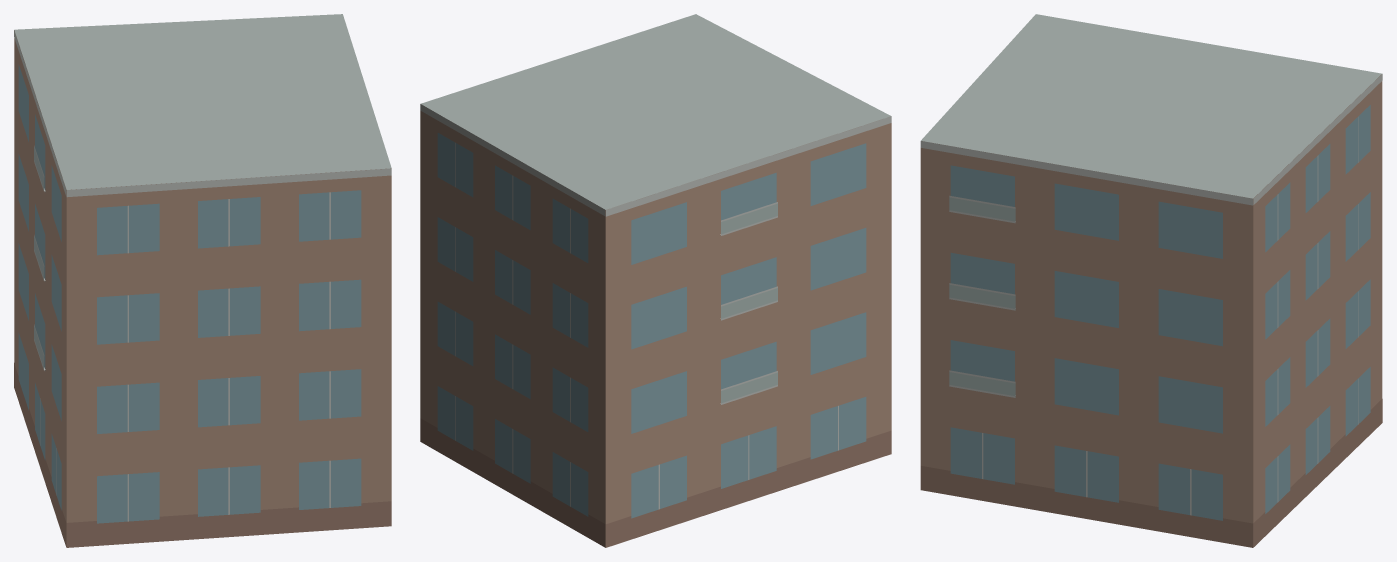
The model's file is survey-upis-32527633.glb.
3 views of the same model, side by side, from view 1: azimuth 30°, elevation 25°; view 2: azimuth 150°, elevation 25°; view 3: azimuth 270°, elevation 25° (orthographic). The views are drawn at different scales.
Parts seen in each view (by area): view 1: survey-upis-32527633.tmp; view 2: survey-upis-32527633.tmp; view 3: survey-upis-32527633.tmp.
Part boxes in pixels (box(x1,y1,x2,y2)): survey-upis-32527633.tmp: box(14, 14, 391, 547); survey-upis-32527633.tmp: box(420, 14, 891, 547); survey-upis-32527633.tmp: box(920, 14, 1382, 547).
Size of the model in its own units: 13.84 by 12.2 by 14.63.
